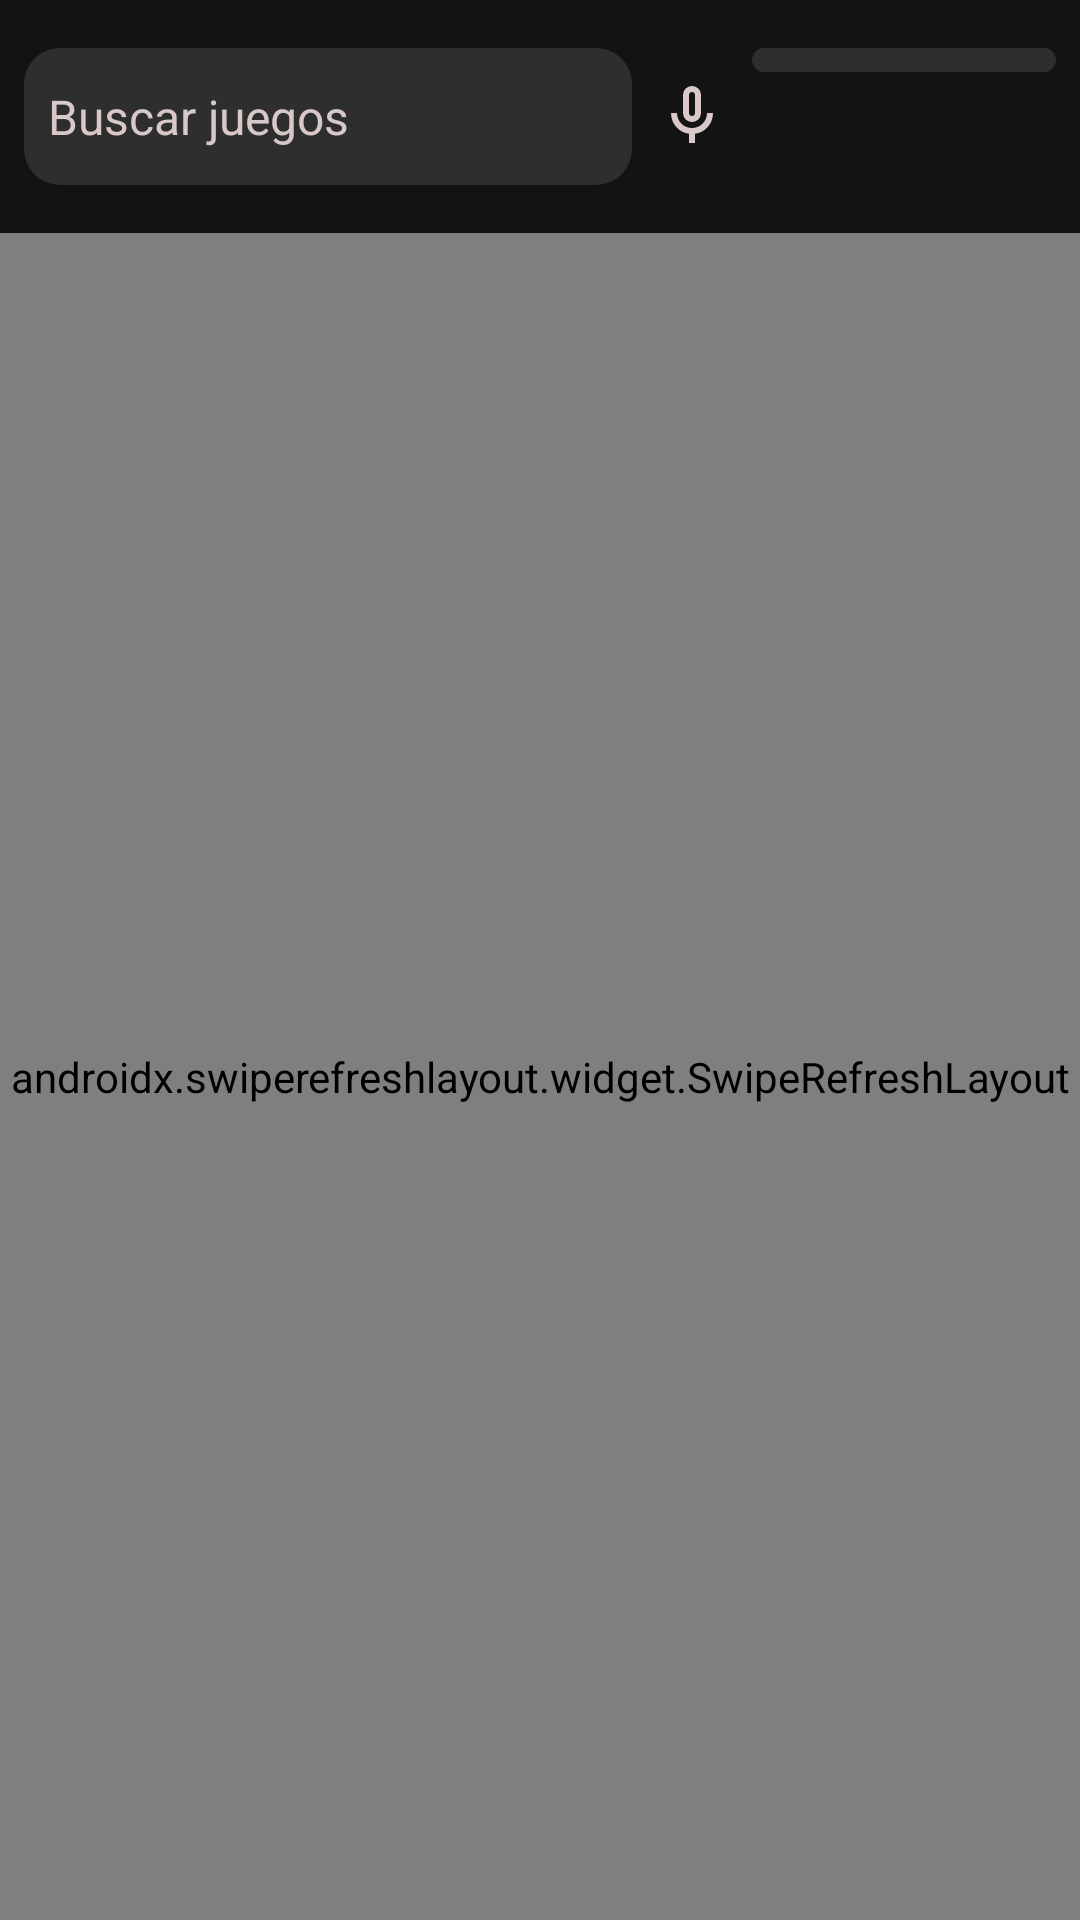

Named icons in this screenshot (1080w x 1920h) and their centers, [x,y]:
Busqueda por voz: [692,114]
